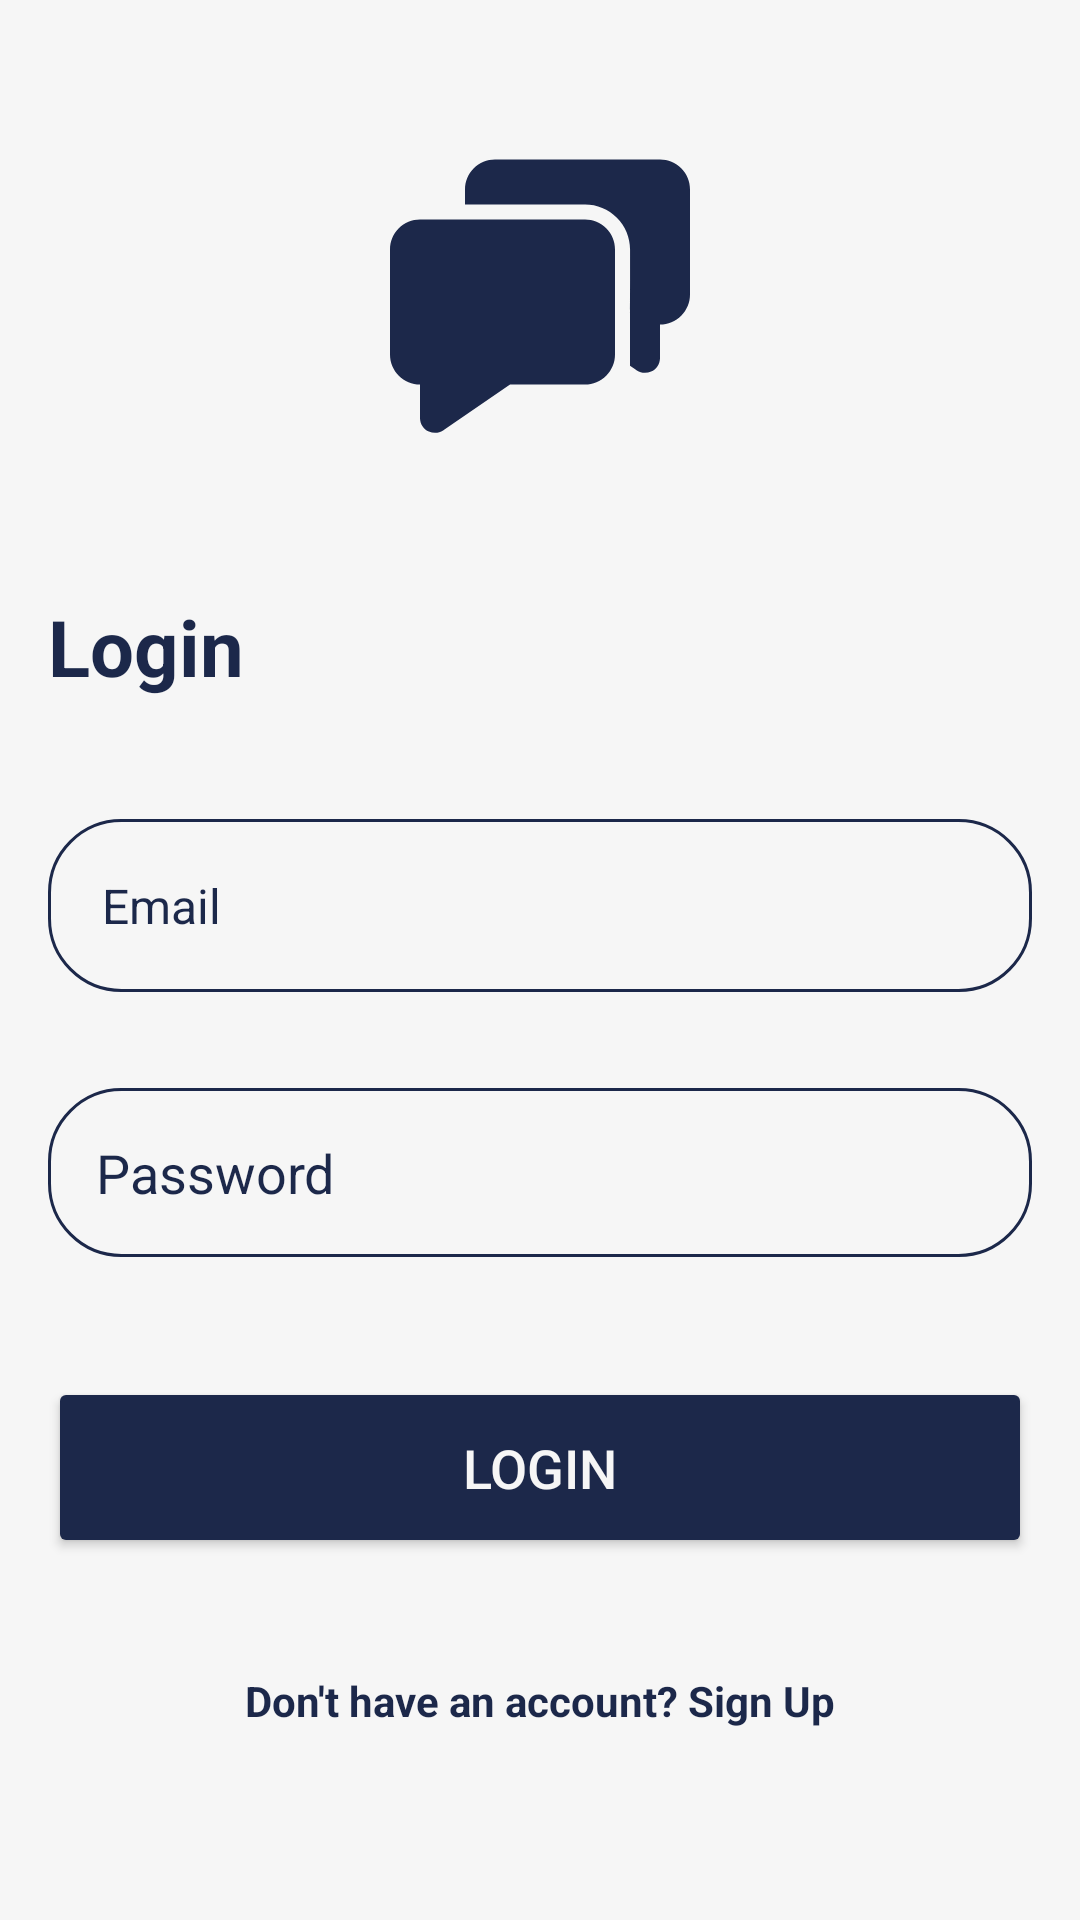

Named icons in this screenshot (1080w x 1920h) and their centers, (x=x, y=y):
message: (x=540, y=296)
